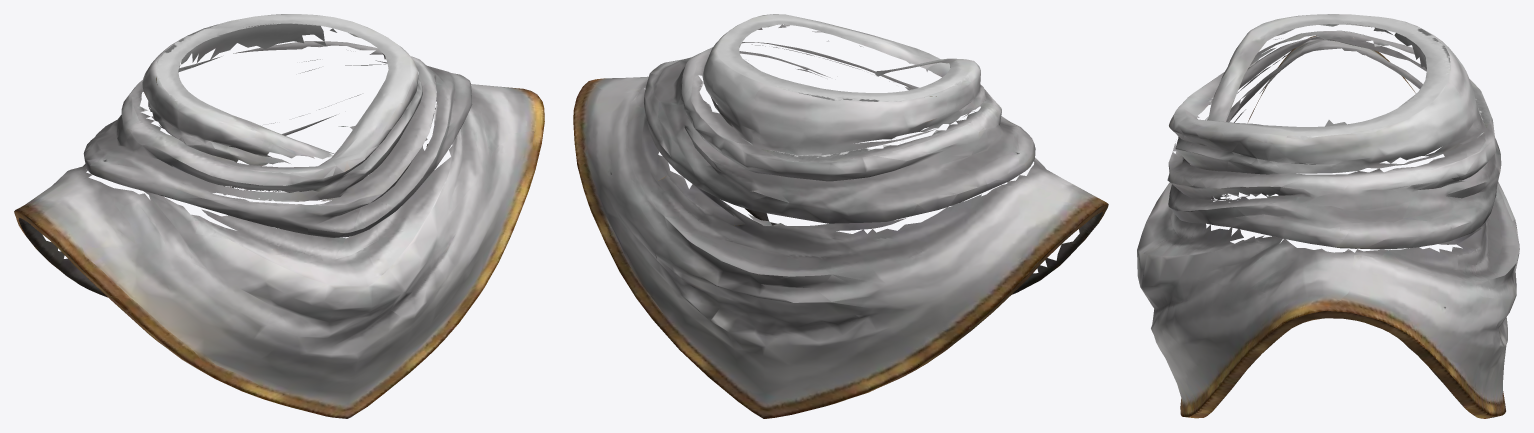
The model's file is assassin_m_scarf.glb.
3 views of the same model, side by side, from view 1: azimuth 30°, elevation 25°; view 2: azimuth 150°, elevation 25°; view 3: azimuth 270°, elevation 25° (orthographic). The views are drawn at different scales.
Parts seen in each view (by area): view 1: lo; view 2: lo; view 3: lo.
Boxes of the visible parts, left/top/right/bottom form: lo: left=14, top=14, right=544, bottom=418; lo: left=573, top=14, right=1108, bottom=418; lo: left=1137, top=14, right=1519, bottom=418.
Size of the model in its own units: 0.6 by 0.35 by 0.35.
Materials: 1 (1 with a texture image).
